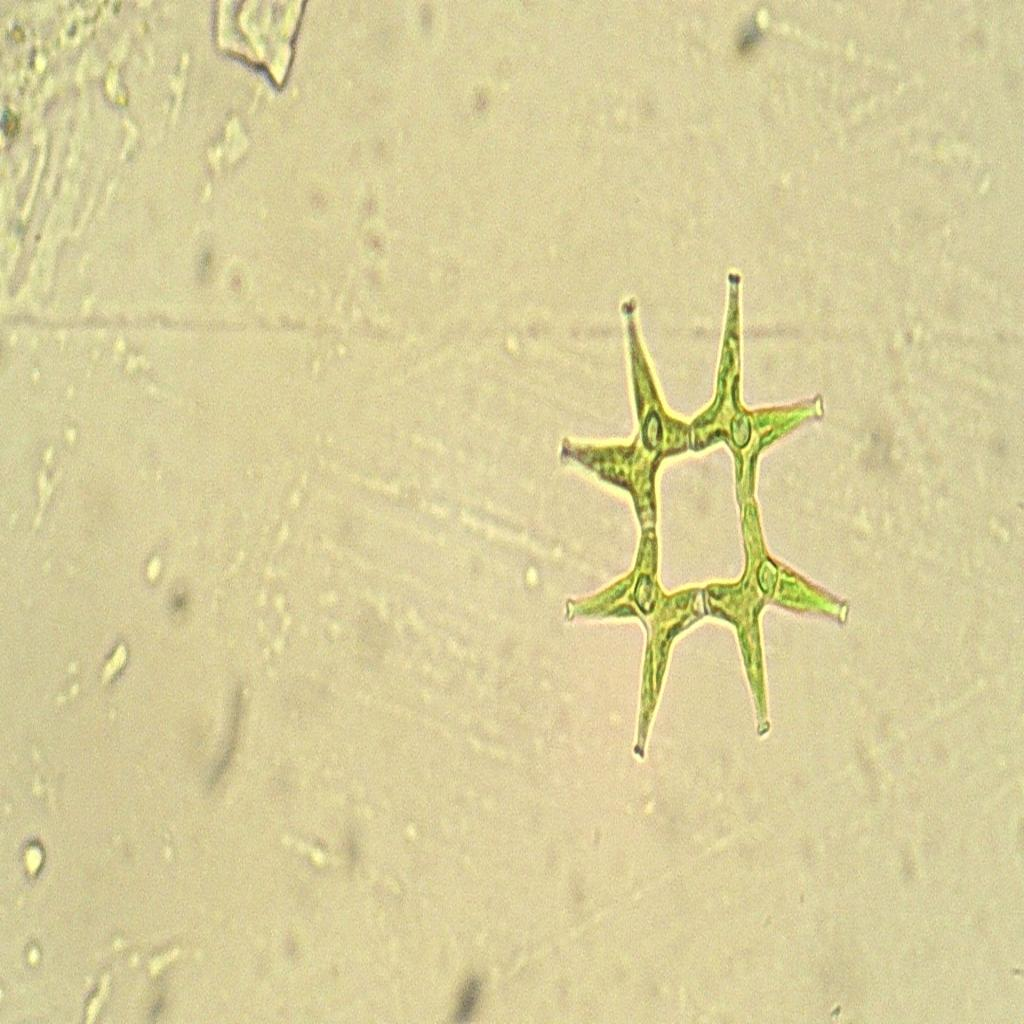Pediastrum_10: (543, 257, 869, 784)
